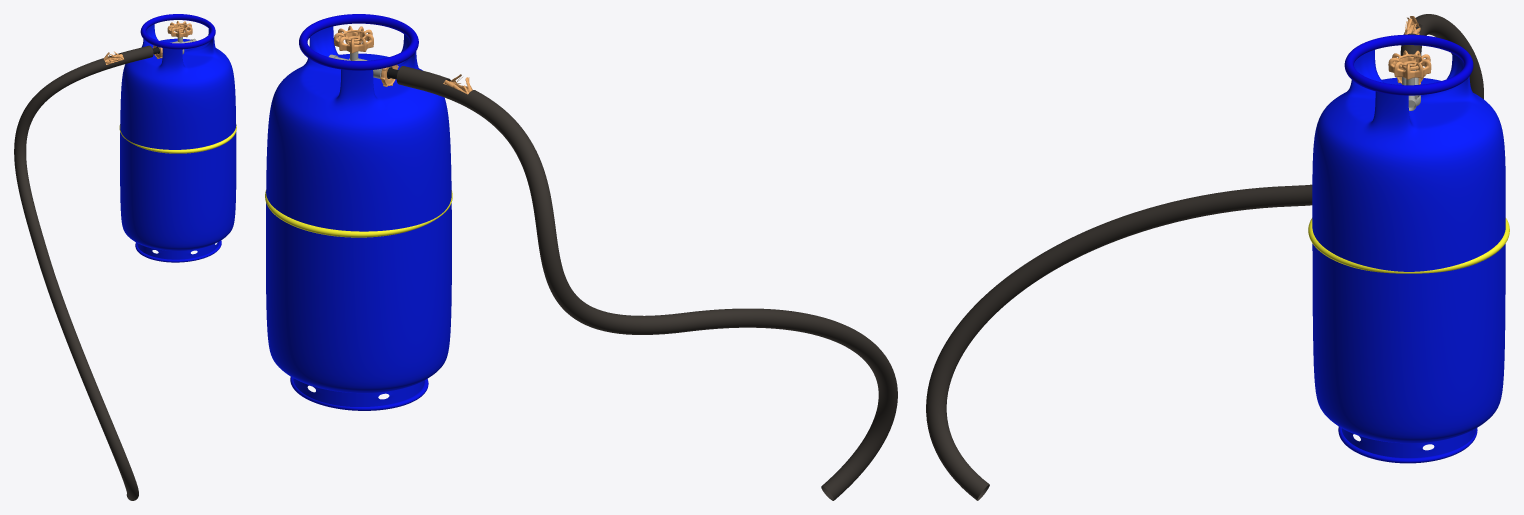
The model's file is LPGHazard.fbx.
3 renders of one model, left to right at view 1: azimuth 30°, elevation 25°; view 2: azimuth 150°, elevation 25°; view 3: azimuth 270°, elevation 25°, orthographic. The views are drawn at different scales.
Visible parts, largest first — view 1: LPG TANK, Hose, Regulator_Valve; view 2: LPG TANK, Hose, Regulator_Valve; view 3: LPG TANK, Hose, Regulator_Valve.
Part boxes in pixels (x1,y1,x2,y2): LPG TANK: (119,14,236,262); Hose: (14,45,153,500); Regulator_Valve: (167,21,192,37); LPG TANK: (265,14,452,410); Hose: (396,66,897,500); Regulator_Valve: (334,26,373,53); LPG TANK: (1308,34,1509,463); Hose: (926,14,1483,500); Regulator_Valve: (1388,50,1431,79).
Size of the model in its own units: 4.58 by 5.82 by 5.24.
